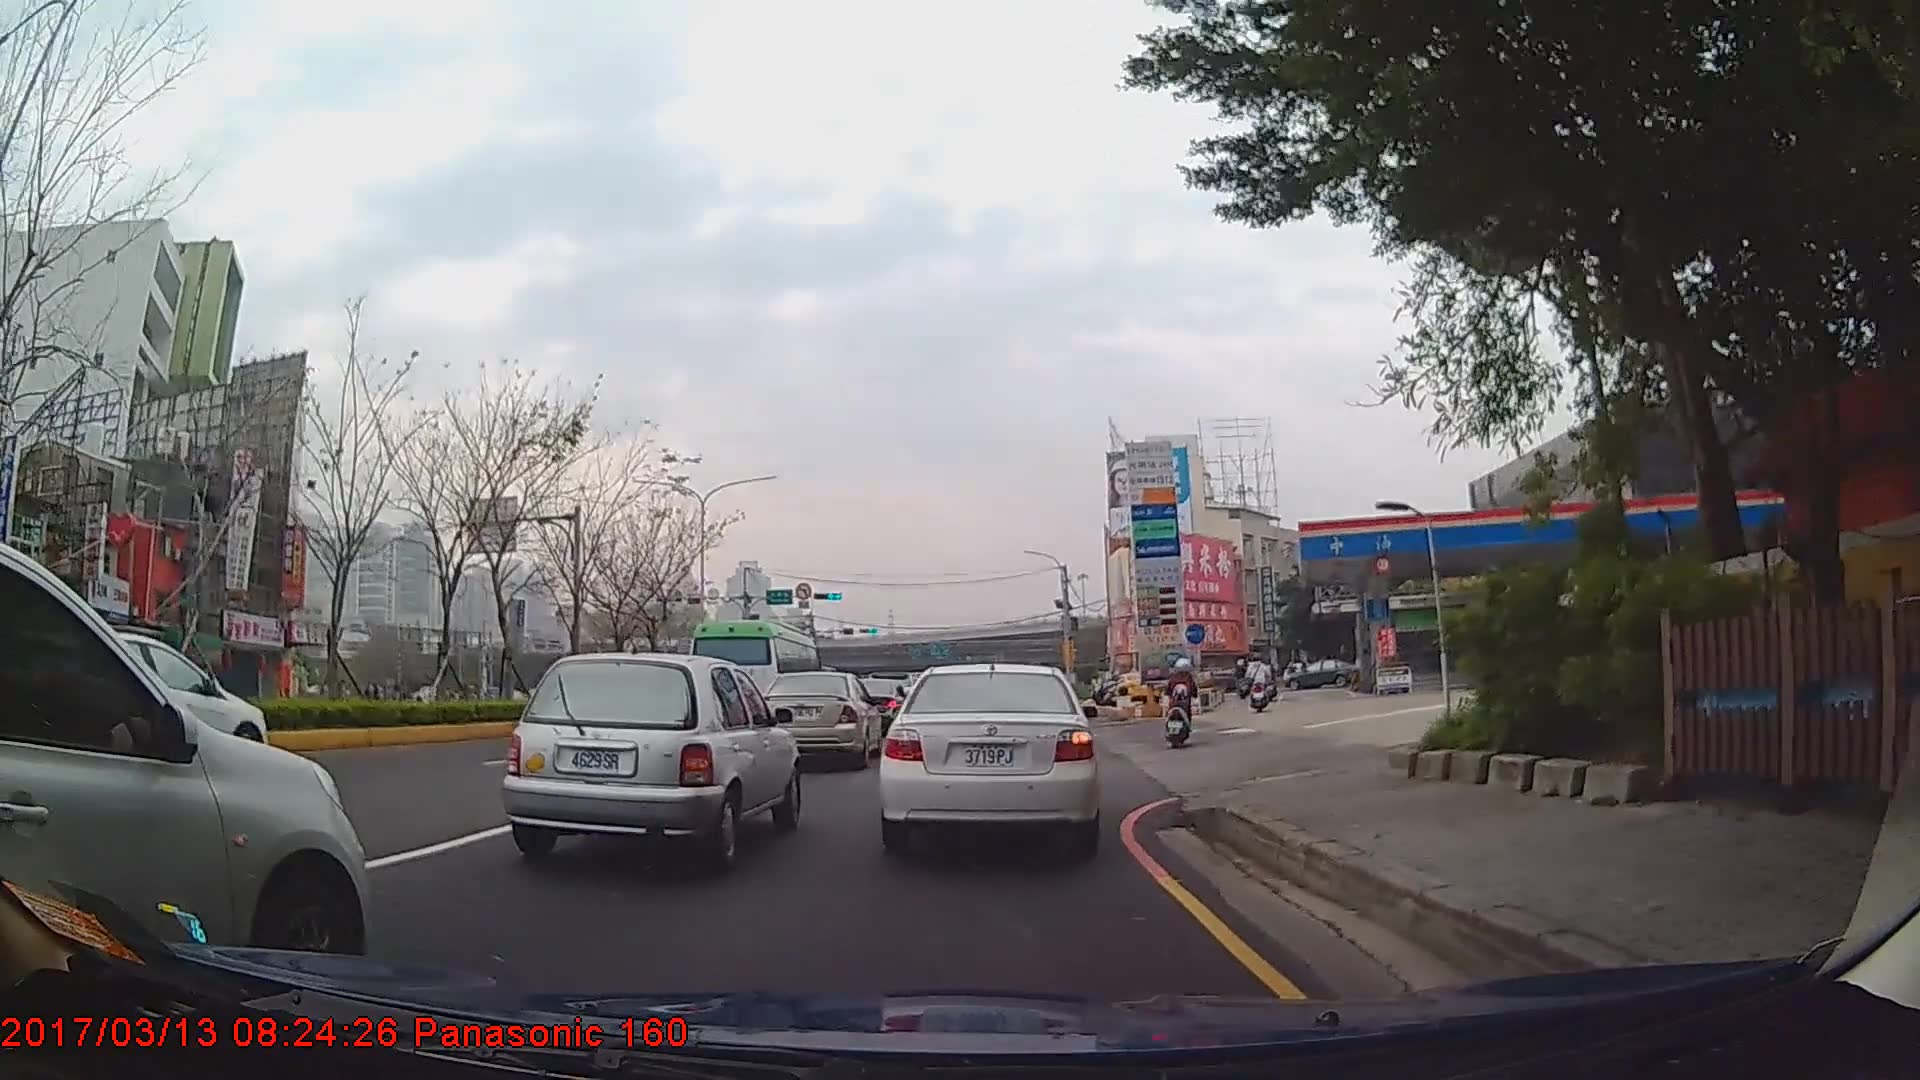rider: (1166, 661, 1199, 755), (1245, 652, 1273, 714)
vehicle: (0, 546, 375, 993), (503, 652, 803, 870), (876, 659, 1099, 857), (687, 617, 822, 725), (753, 671, 881, 767), (1287, 658, 1357, 688)
